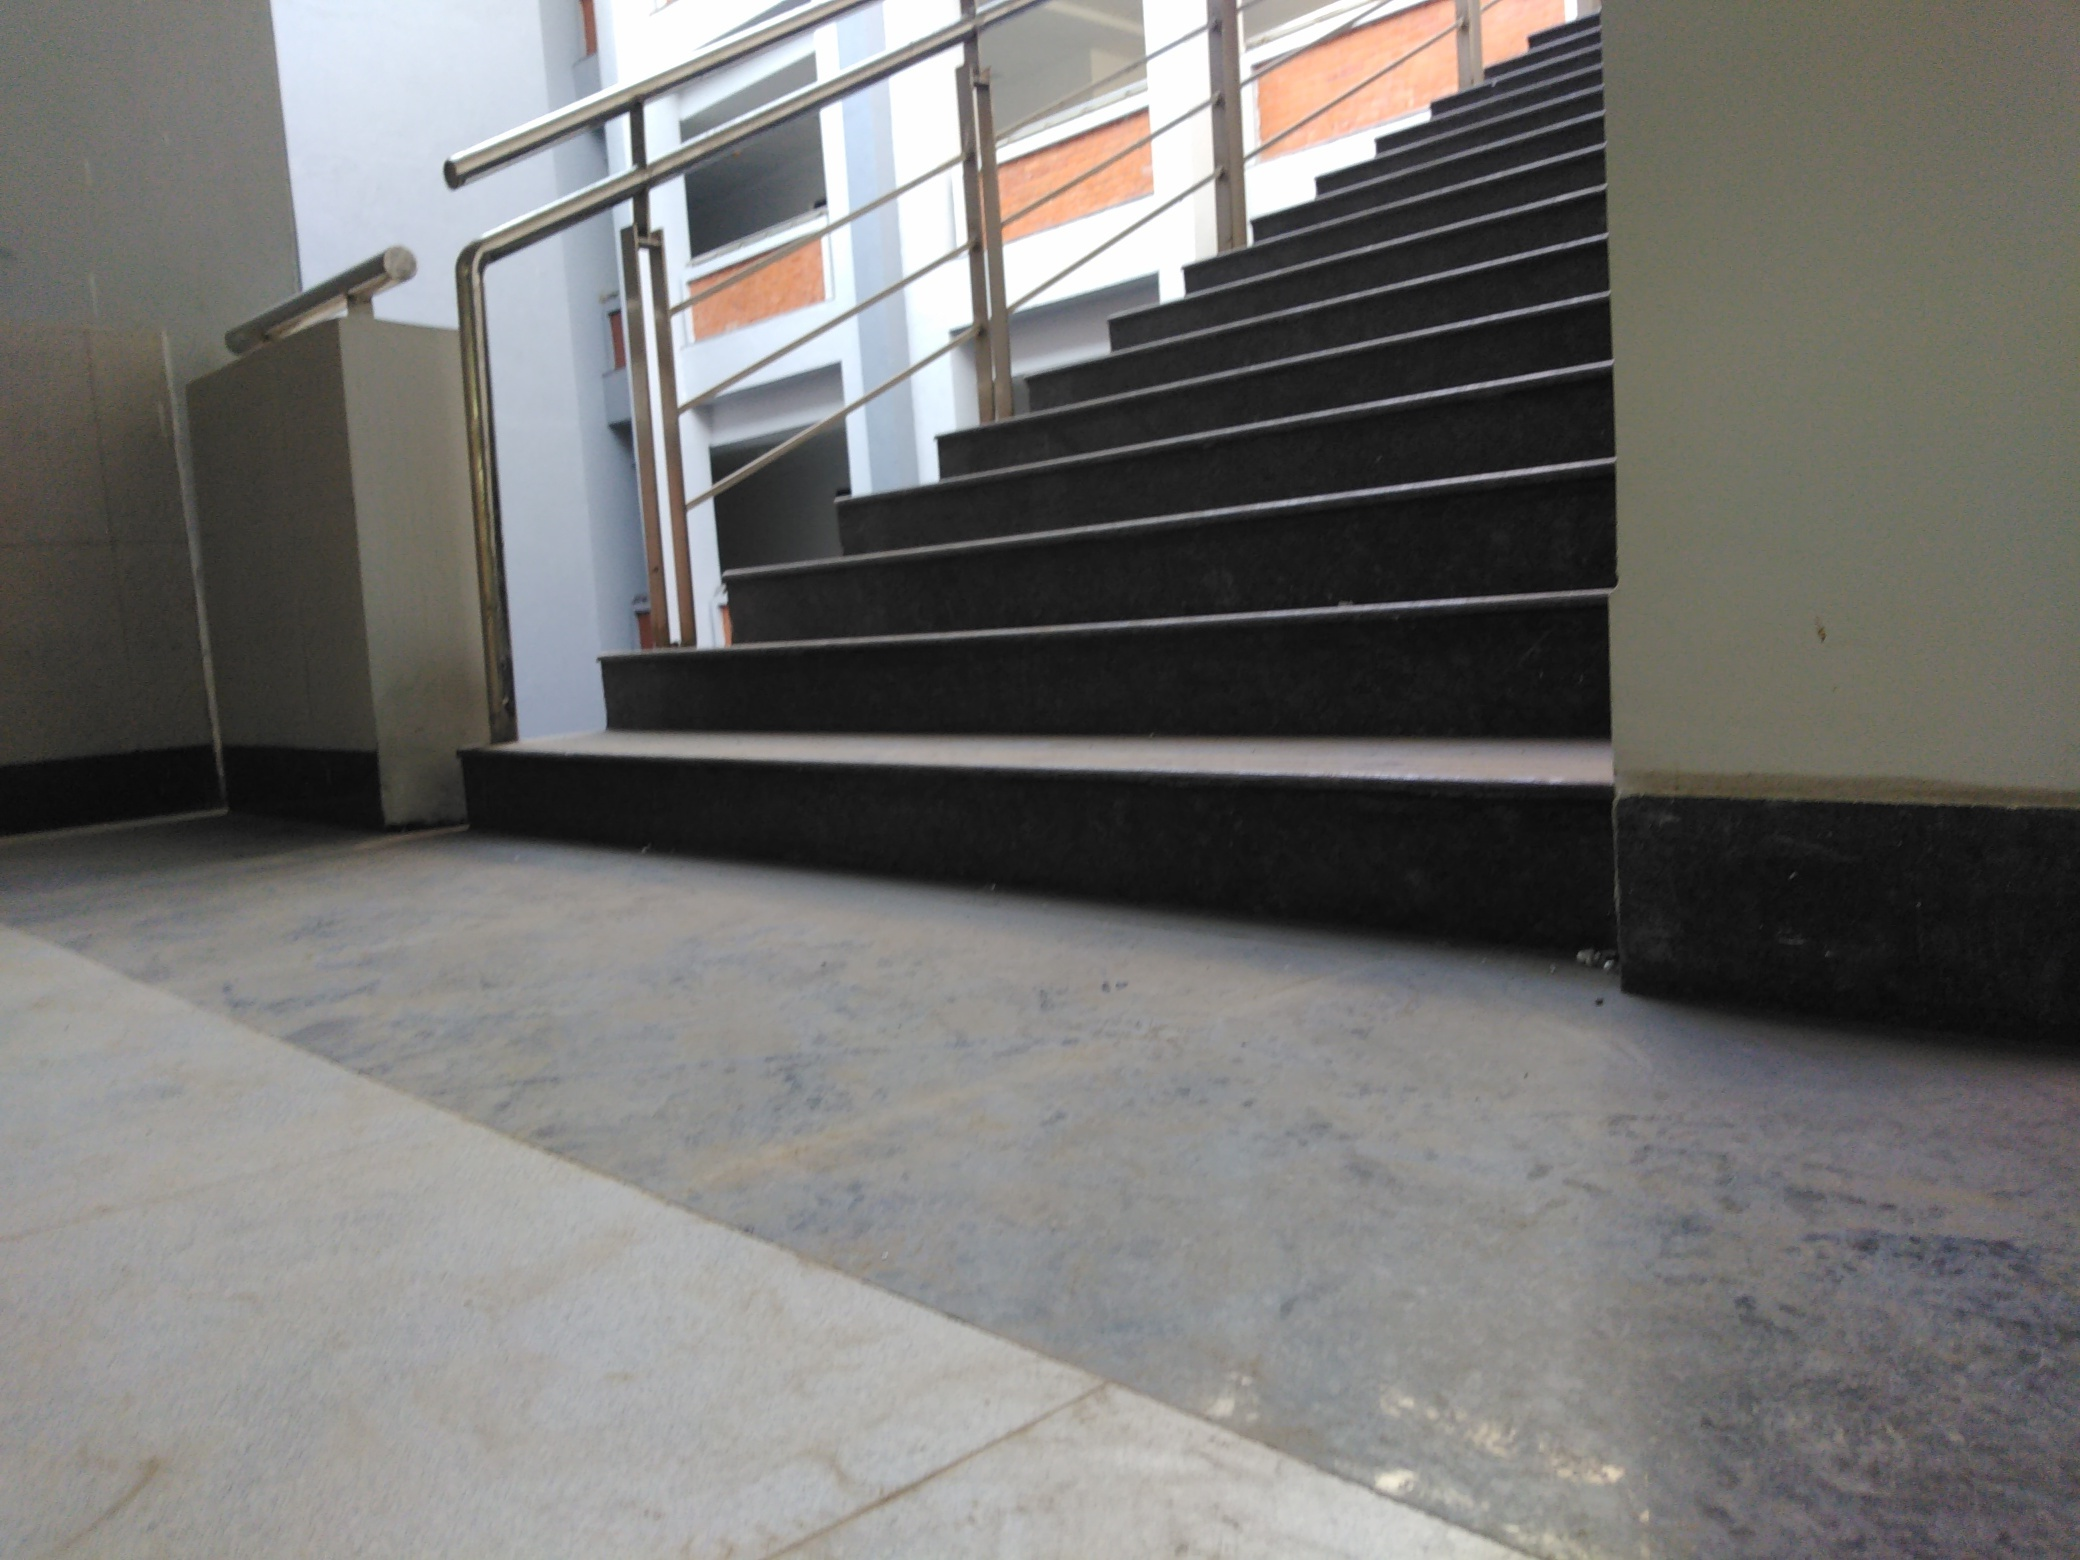stairs_up: (578, 26, 1597, 914)
